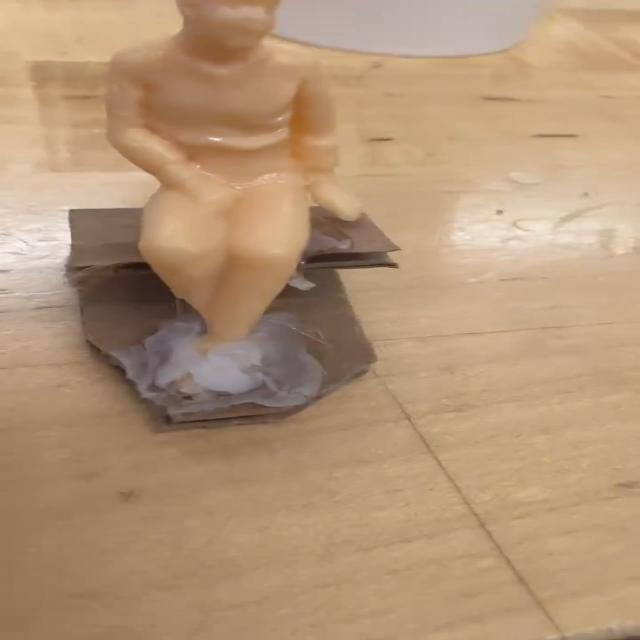Unauthorized: (98, 0, 408, 382)
